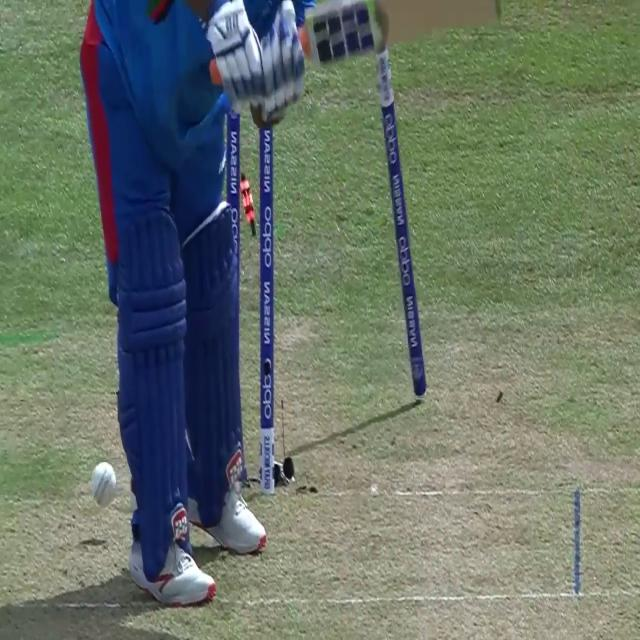ball: (88, 459, 118, 510)
